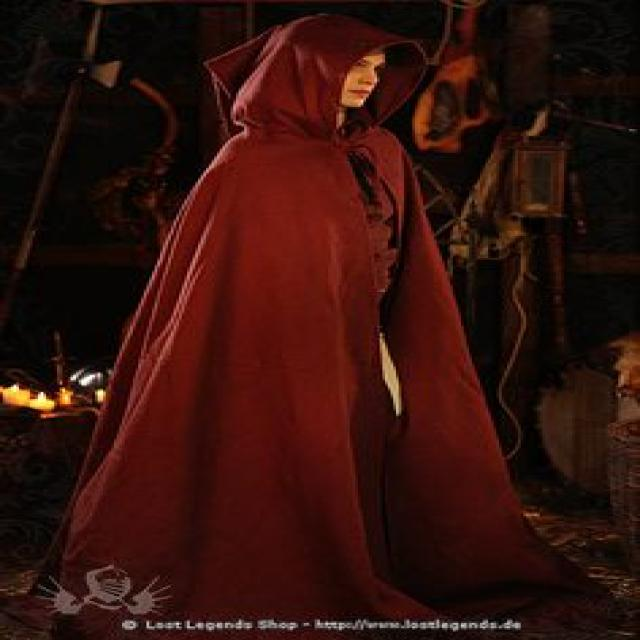4_capucha: (200, 14, 431, 143)
